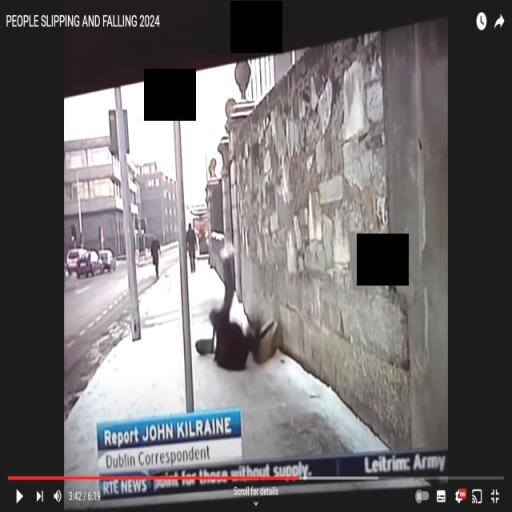Fall: (195, 243, 262, 374)
